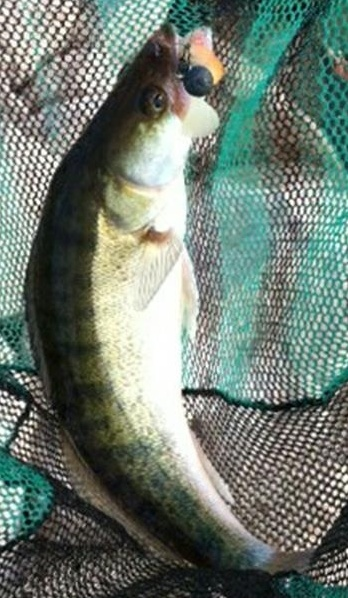Sander lucioperca: (20, 20, 328, 578)
